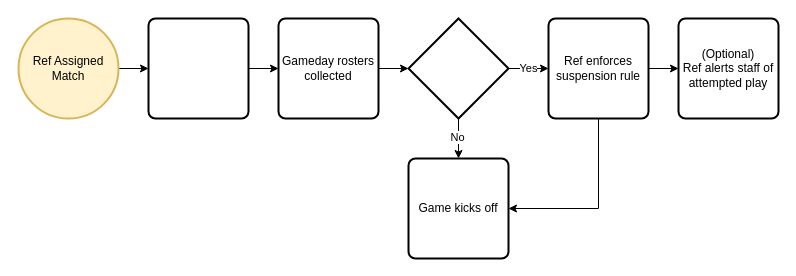
Image size: 796x276. Some labels were removed from this diagram. The centre of each missing label's shape, as x and y in pixels:
"Receives info on any suspended players on rosters" goes at point (198, 68).
"Suspended Player Attempts to Play?" goes at point (458, 68).
